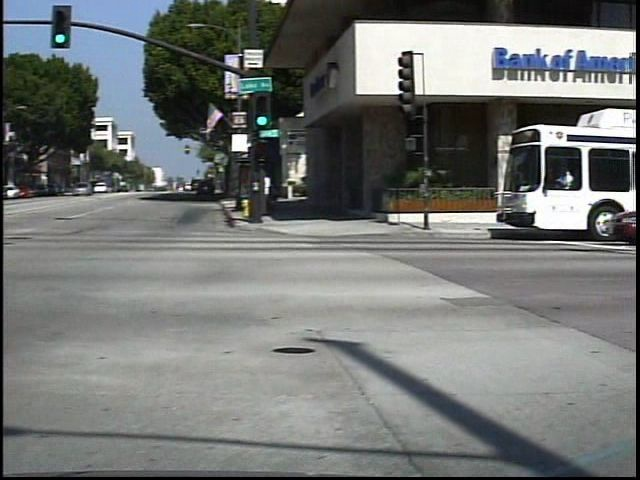person: (265, 167, 287, 217)
